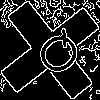Q: (25, 25, 87, 86)
